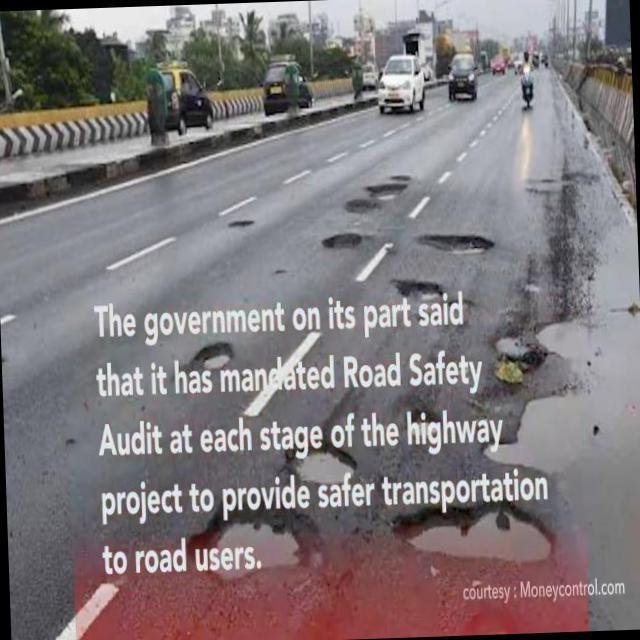Pothole: (484, 238, 640, 620), (380, 486, 560, 588), (190, 502, 315, 596), (289, 439, 365, 485), (417, 228, 495, 265), (395, 272, 447, 300), (193, 339, 235, 369), (321, 227, 358, 259), (368, 182, 407, 212)
